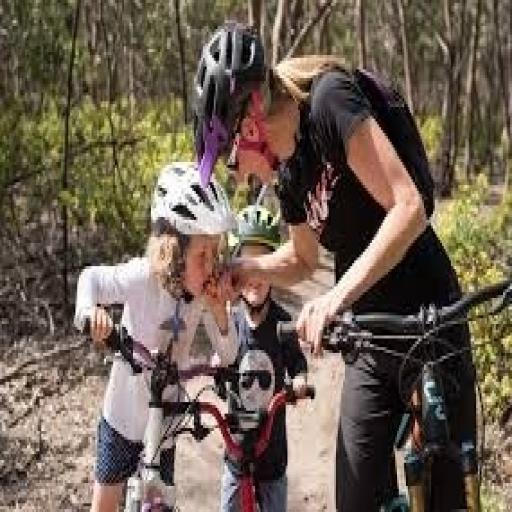cycling: (190, 17, 484, 509), (72, 159, 241, 509)
